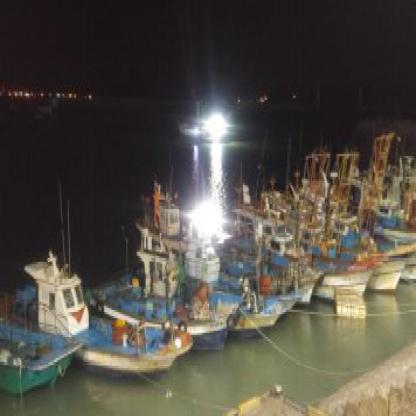fish-b: (4, 239, 184, 381)
